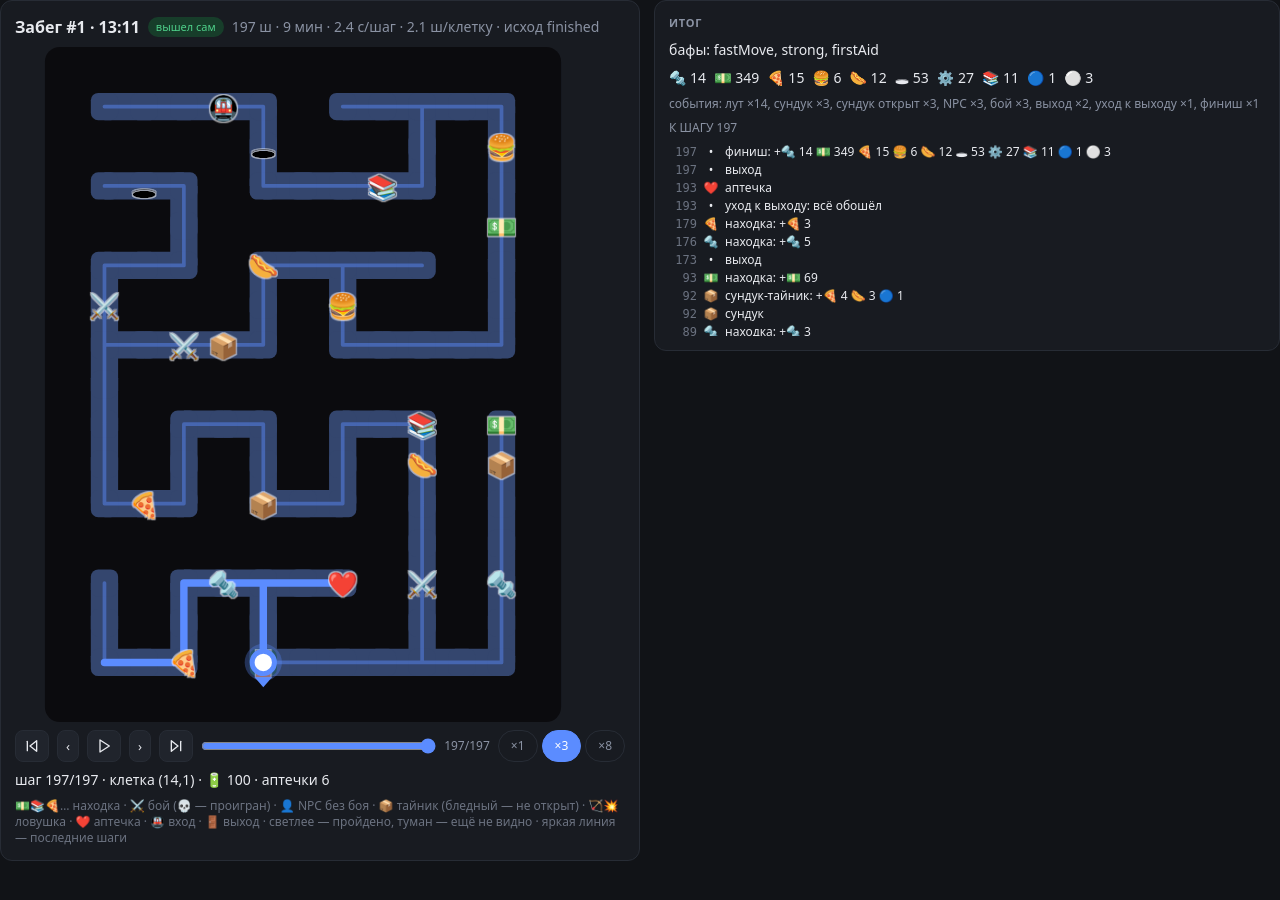
it: карта метро › проигрывание: по умолчанию ×3 (25 шагов/с), ×8 — весь забег за ~3 с, выбор запоминается
Click the button named "В начало". click: (32, 746)
box: [15,730,49,762]
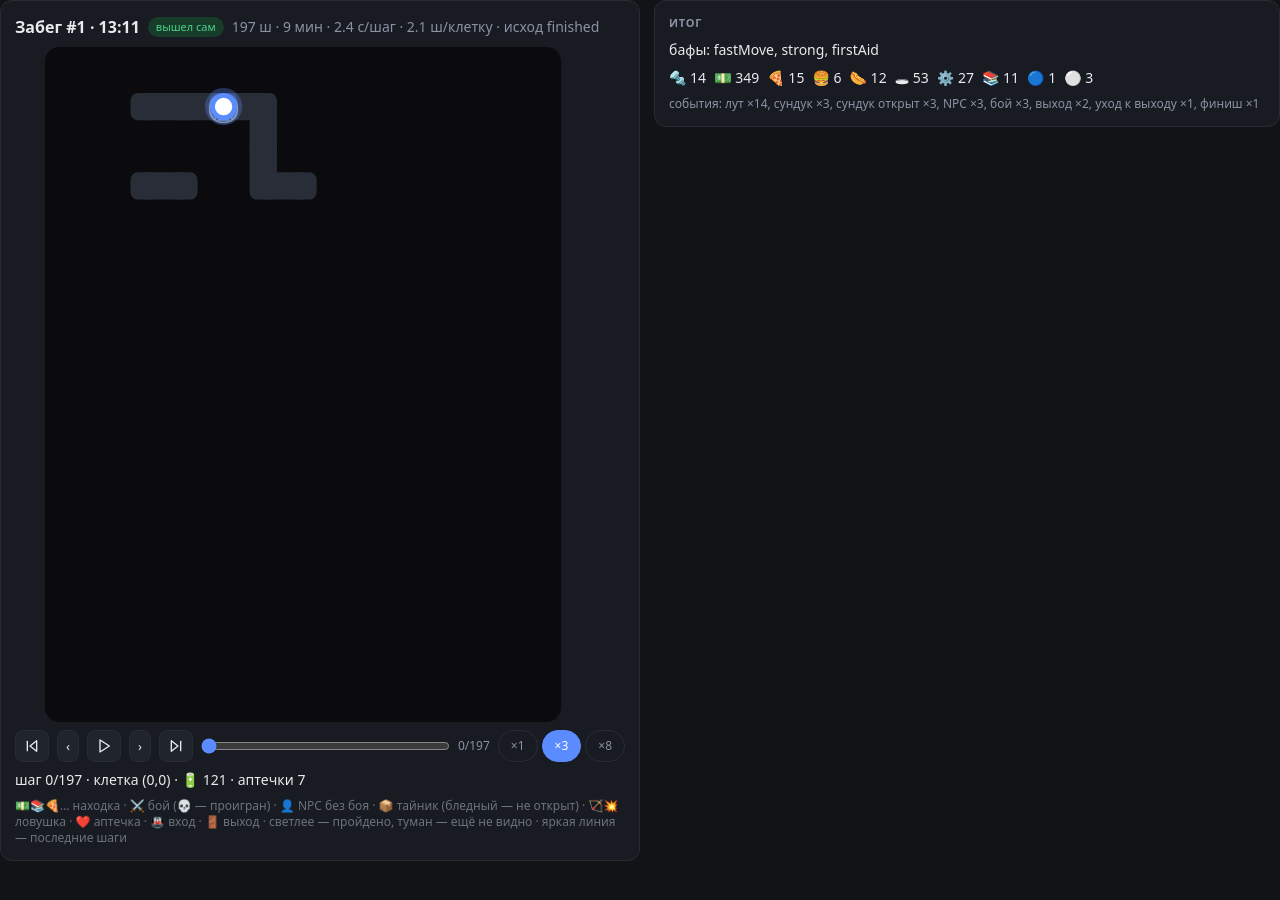
Click the button named "Проиграть". click: (104, 746)
box: [87,730,121,762]
Wait 1000 ms
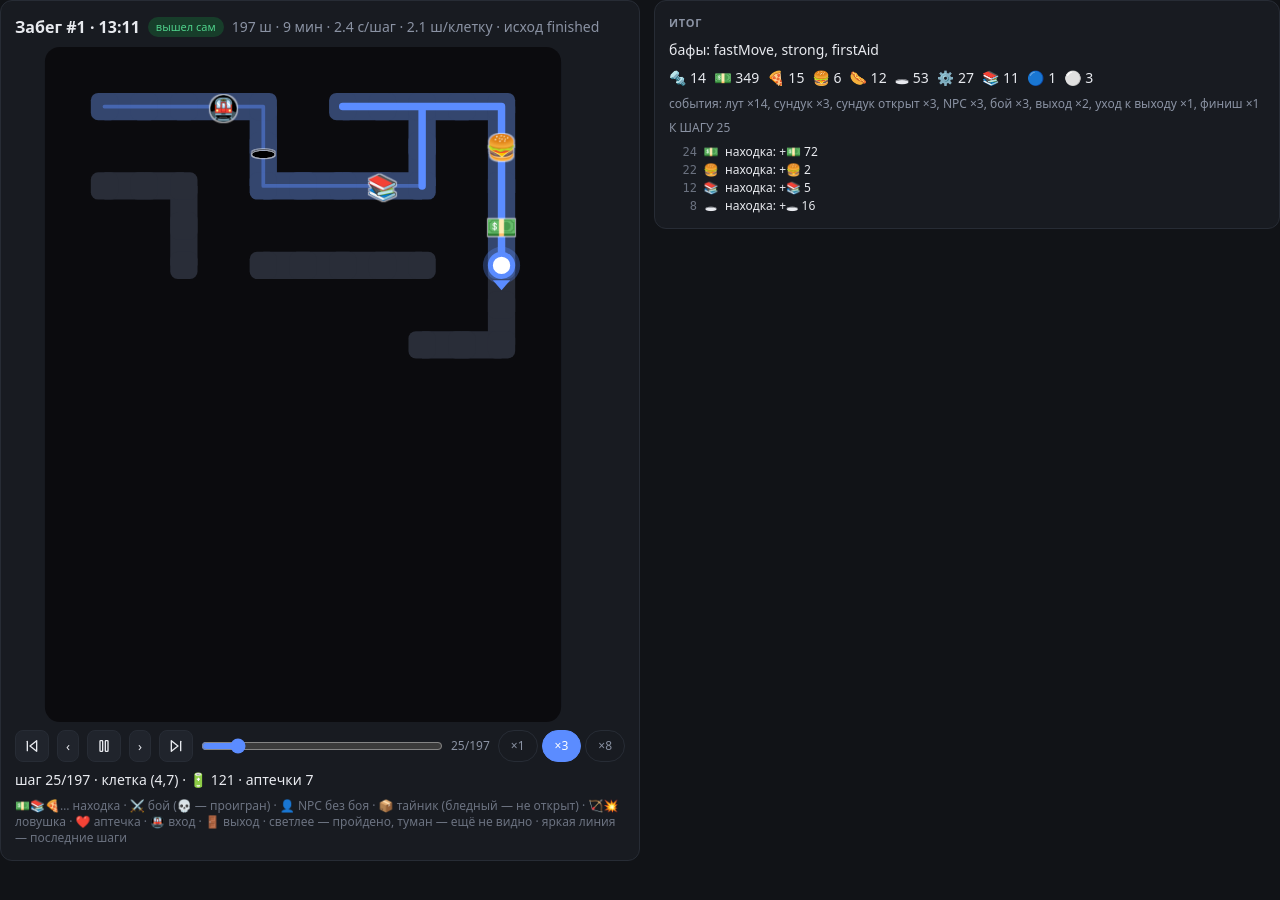
Expected: the text "шаг 25/197 · клетка (4,7) · 🔋 121 · аптечки 7" is shown, [15,770,313,789]
Click the button "×8". click: (605, 746)
box: [585,730,625,762]
Wait 3000 ms
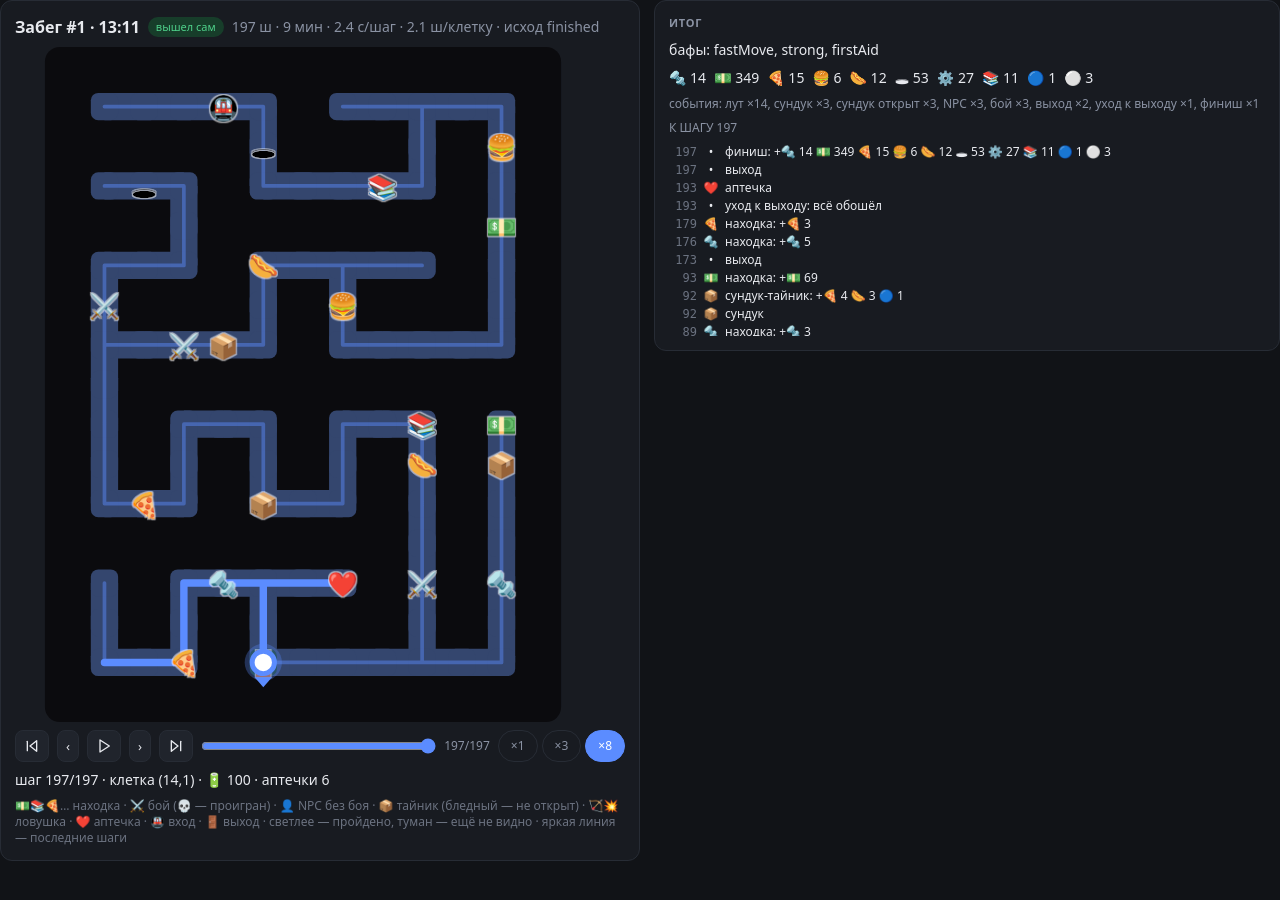
Expected: the text "шаг 197/197 · клетка (14,1) · 🔋 100 · аптечки 6" is shown, [15,770,329,789]
Expected: the button named "Проиграть" is shown, [87,730,121,762]
